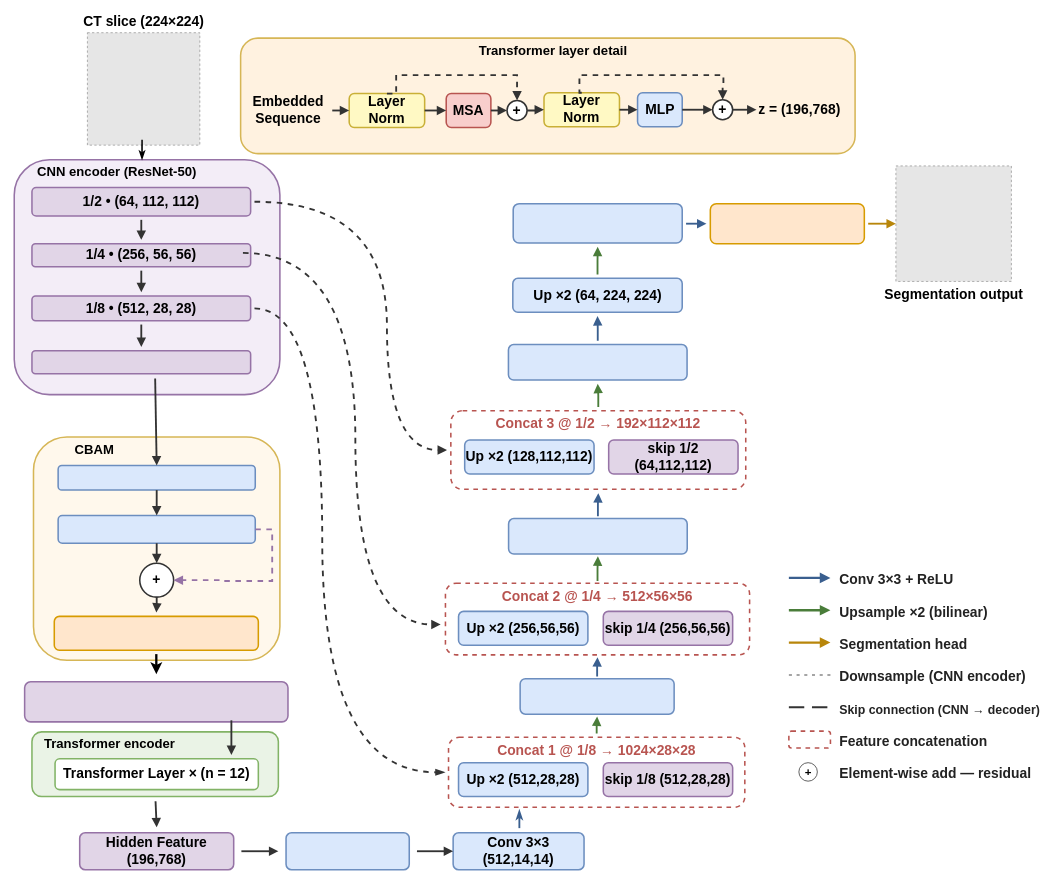
Some shapes in this 1060 by 883 pixel diagram are drawn without their labels. Grey dashed boxes stand in for pictures. Each missing label, with the centre of its shape:
1/16 • F (1024, 14, 14): the point at 141,362
Channel Attention: the point at 156,477
Conv 3×3 (128, 56, 56): the point at 597,535
Conv 3×3 (16, 224, 224): the point at 597,223
Conv 3×3 (256, 28, 28): the point at 597,696
Conv 3×3 (64, 112, 112): the point at 597,361
Linear Projection (Patch Embedding): the point at 155,701
Refined hidden feature (1024,14,14): the point at 156,633
Reshape (768,14,14): the point at 347,851
Segmentation head Conv 3×3: the point at 787,223
Spatial Attention: the point at 156,529
